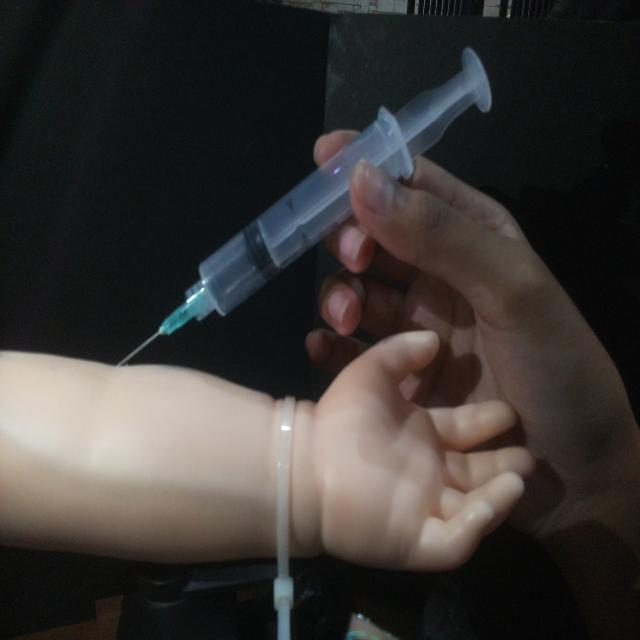30deg: (112, 42, 495, 369)
